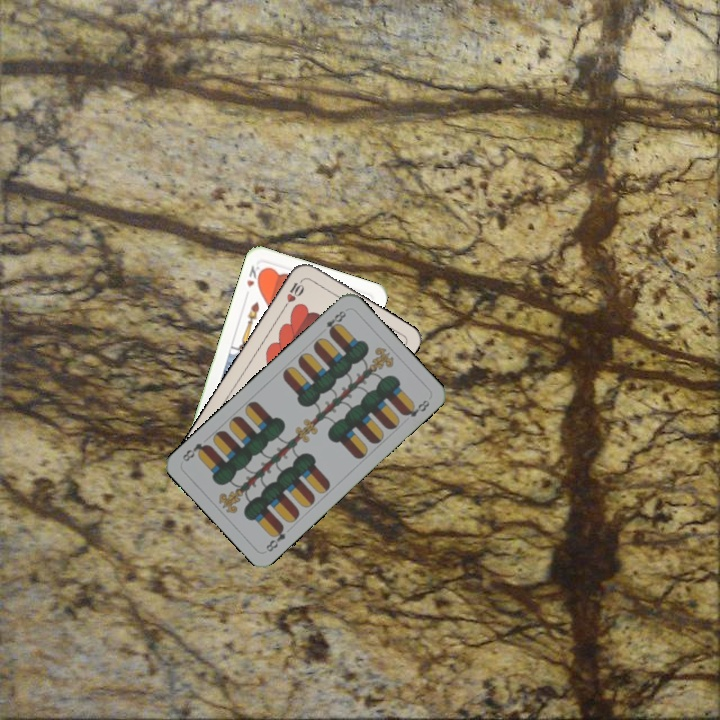E8: (262, 521, 288, 554), (322, 306, 349, 337)
H10: (279, 275, 307, 311)
HK: (242, 261, 266, 290)
